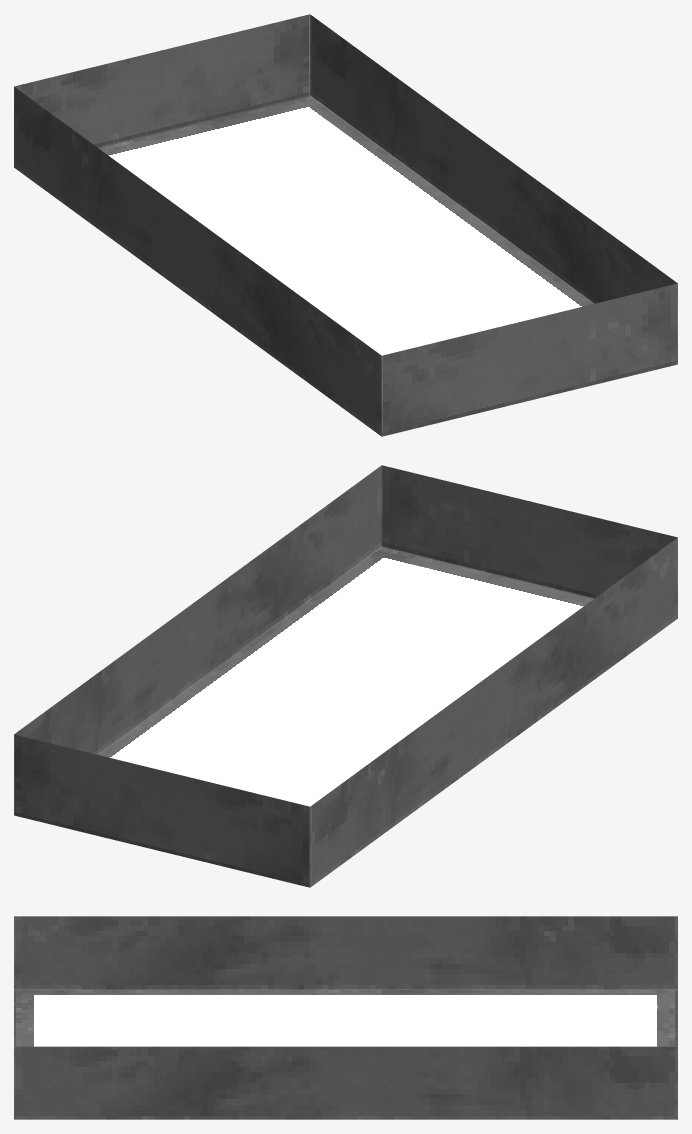
The model's file is light_sml.glb.
3 renders of one model, top to bottom at view 1: azimuth 30°, elevation 25°; view 2: azimuth 150°, elevation 25°; view 3: azimuth 270°, elevation 25°, orthographic. The views are drawn at different scales.
Visible parts, largest first — view 1: light-smal; view 2: light-smal; view 3: light-smal.
Part boxes in pixels (x1,y1,x2,y2): light-smal: (14, 14, 677, 436); light-smal: (14, 465, 677, 887); light-smal: (14, 916, 677, 1119).
Bounding box in the file's own units: 0.661 × 0.1729 × 1.42.
Materials: 1 (1 with a texture image).
